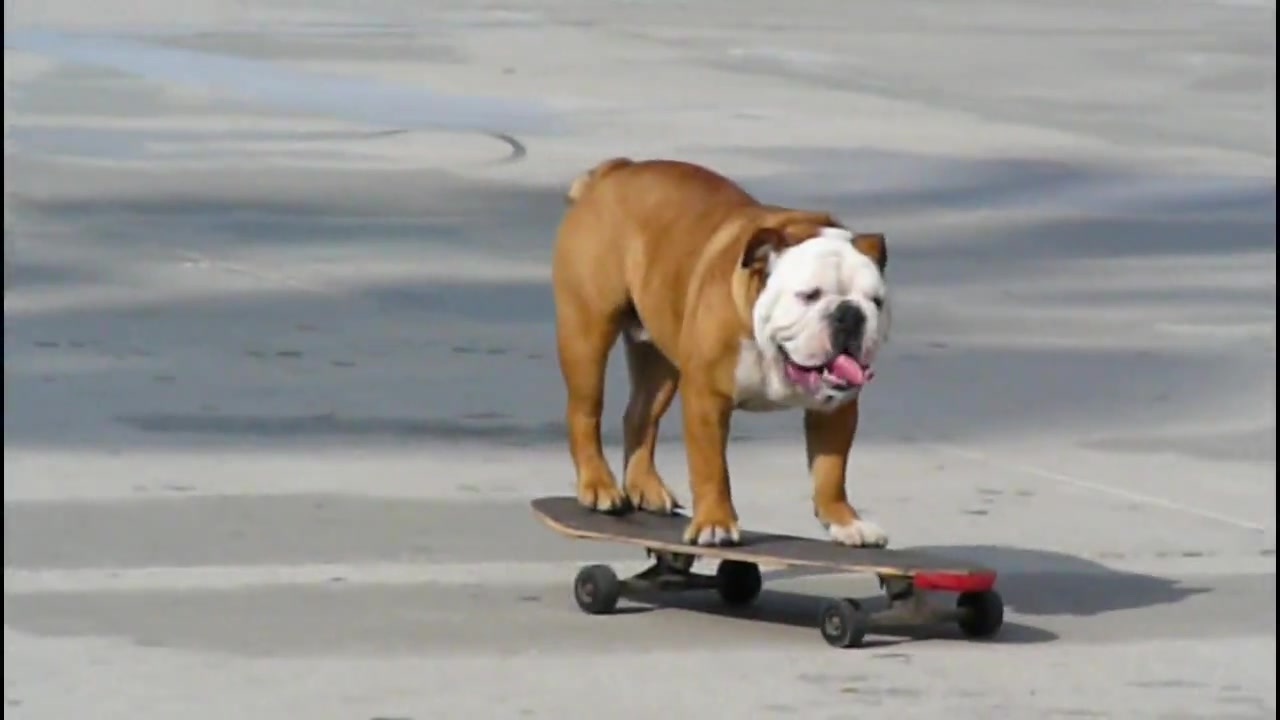dog: (544, 158, 894, 554)
